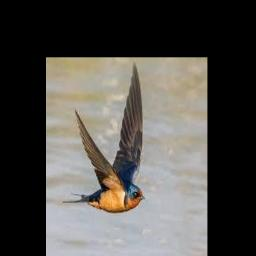Swallow: (62, 62, 146, 212)
